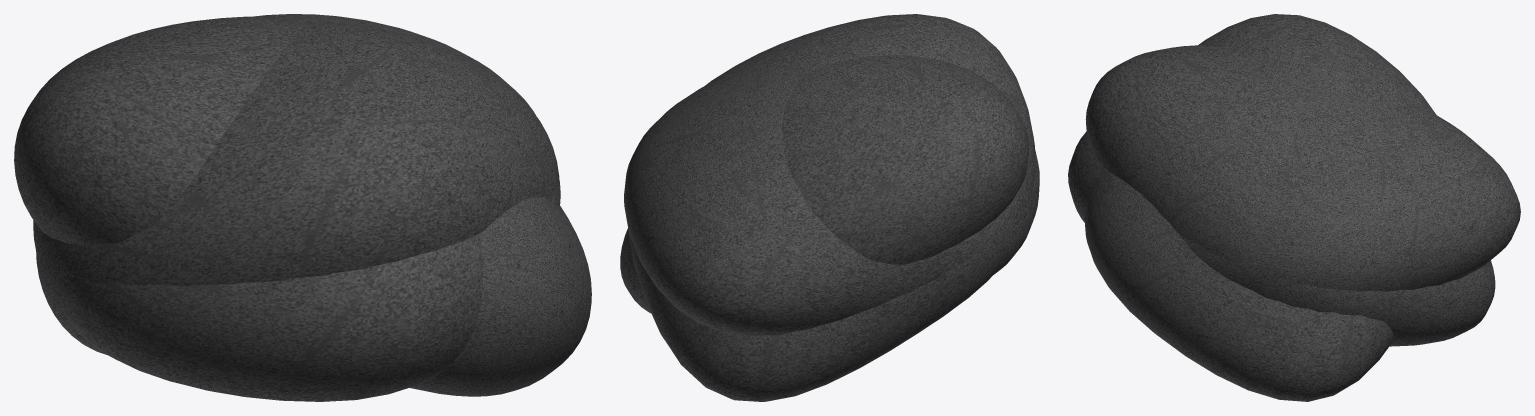
The model's file is grouprocktutorial.fbx.
3 views of the same model, side by side, from view 1: azimuth 30°, elevation 25°; view 2: azimuth 150°, elevation 25°; view 3: azimuth 270°, elevation 25° (orthographic). The views are drawn at different scales.
Visible parts, largest first — view 1: stone2, stone3, stone1; view 2: stone1, stone3, stone2; view 3: stone1, stone2, stone3.
Boxes of the visible parts, left/top/right/bottom form: stone2: left=36, top=22, right=559, bottom=354; stone3: left=14, top=16, right=591, bottom=396; stone1: left=33, top=14, right=560, bottom=401; stone1: left=624, top=72, right=1039, bottom=335; stone3: left=620, top=55, right=1028, bottom=313; stone2: left=628, top=14, right=1035, bottom=401; stone1: left=1068, top=89, right=1520, bottom=291; stone2: left=1085, top=45, right=1495, bottom=346; stone3: left=1084, top=14, right=1436, bottom=401.
Size of the model in its own units: 1.15 by 0.8132 by 1.28.
1 material, 1 textured.
